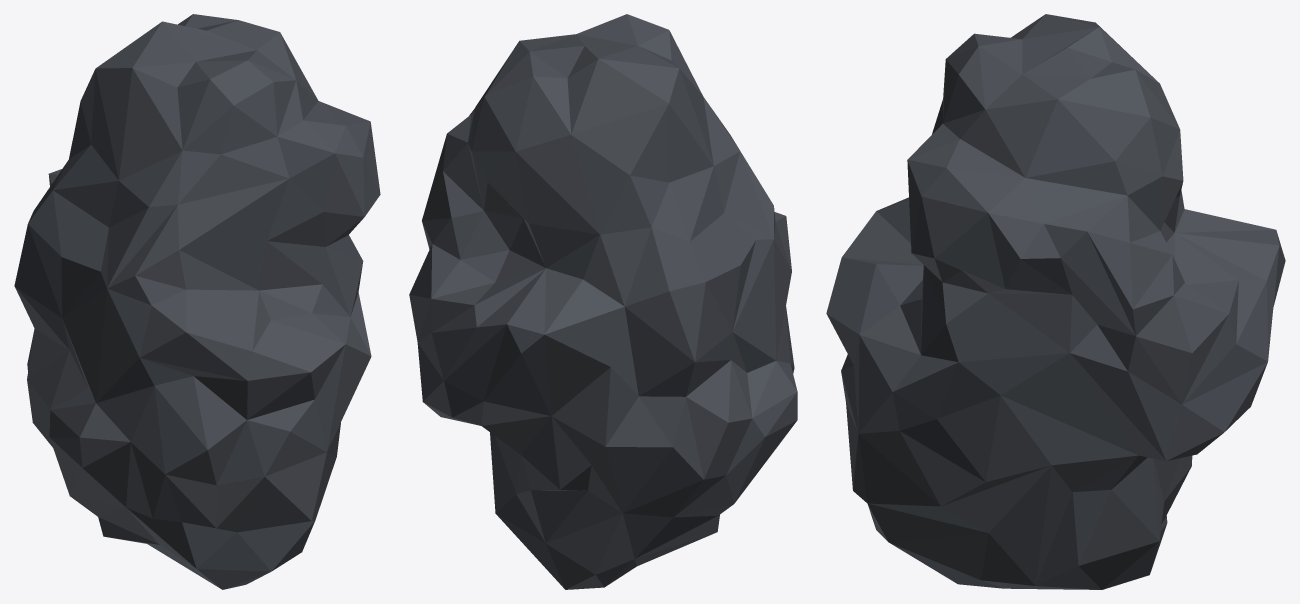
Rendered from Rock_Med_3.fbx.
3 views of the same model, side by side, from view 1: azimuth 30°, elevation 25°; view 2: azimuth 150°, elevation 25°; view 3: azimuth 270°, elevation 25° (orthographic). The views are drawn at different scales.
Parts seen in each view (by area): view 1: Group47912; view 2: Group47912; view 3: Group47912.
Part boxes in pixels (<box>): Group47912: <box>14,14,380,589</box>; Group47912: <box>409,14,797,589</box>; Group47912: <box>826,14,1285,589</box>.
Size of the model in its own units: 281 by 448 by 338.
